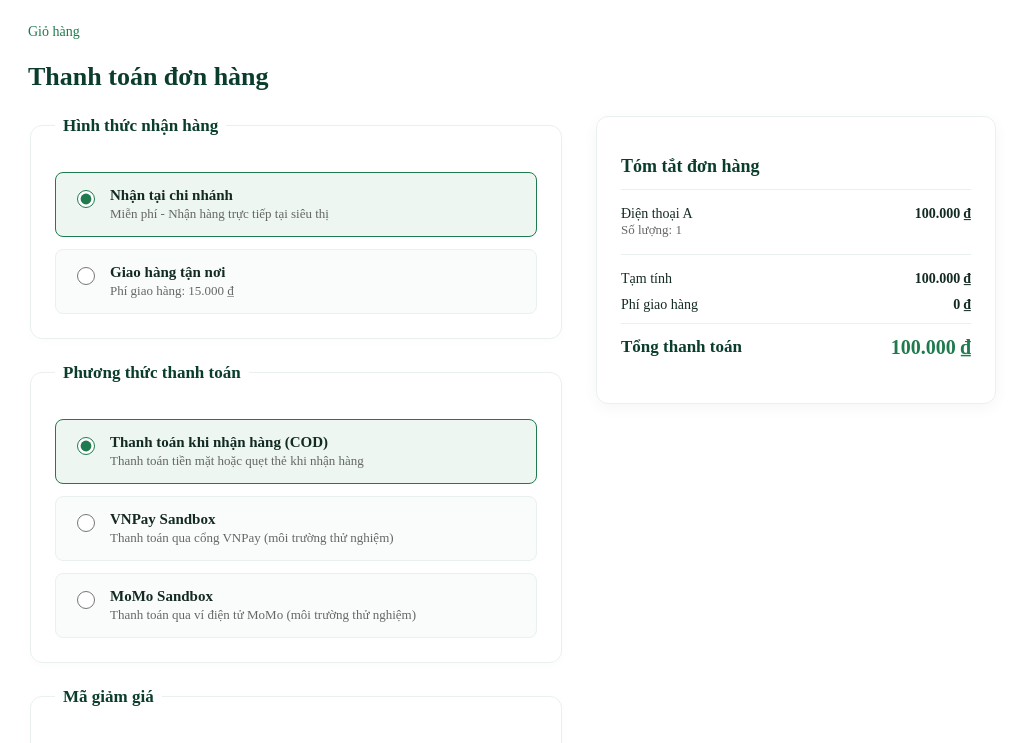
Scenario: CheckoutPage › shows delivery fields and adds the backend shipping fee
The image size is (1024, 743).
Step 1. Click the radio button labelled "Giao hàng tận nơi Phí giao hàng: 15.000 ₫" → (86, 276), box [77, 267, 95, 285]
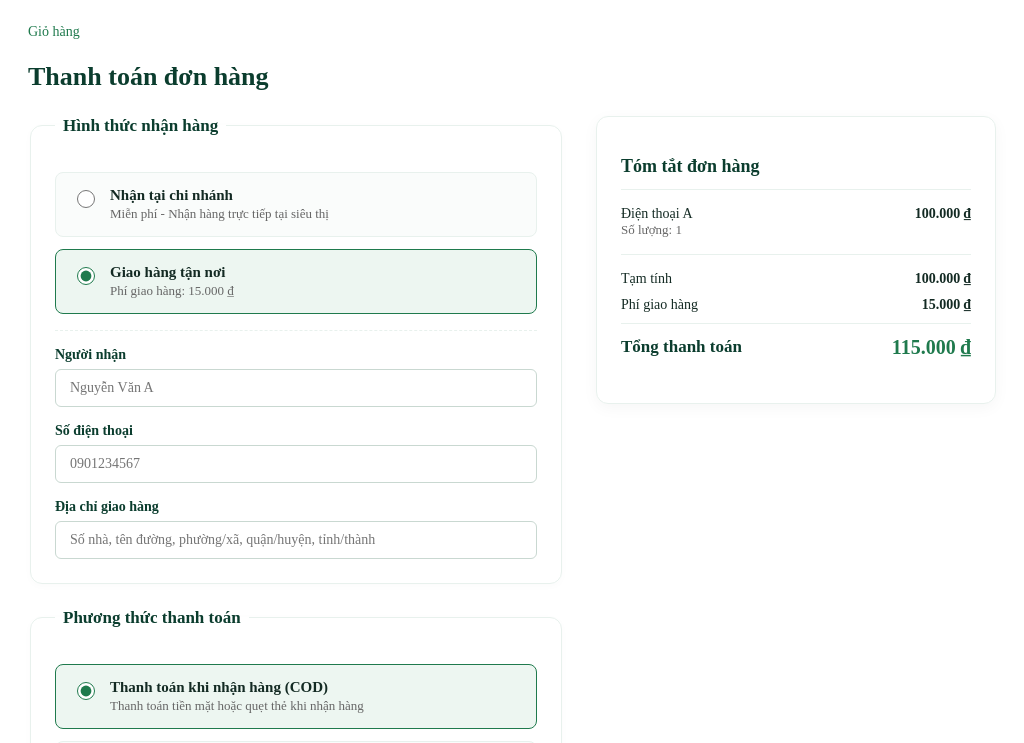
expect the field labelled "Người nhận" is shown: met, box [55, 369, 537, 407]
expect the field labelled "Số điện thoại" is shown: met, box [55, 445, 537, 483]
expect the field labelled "Địa chỉ giao hàng" is shown: met, box [55, 521, 537, 559]
